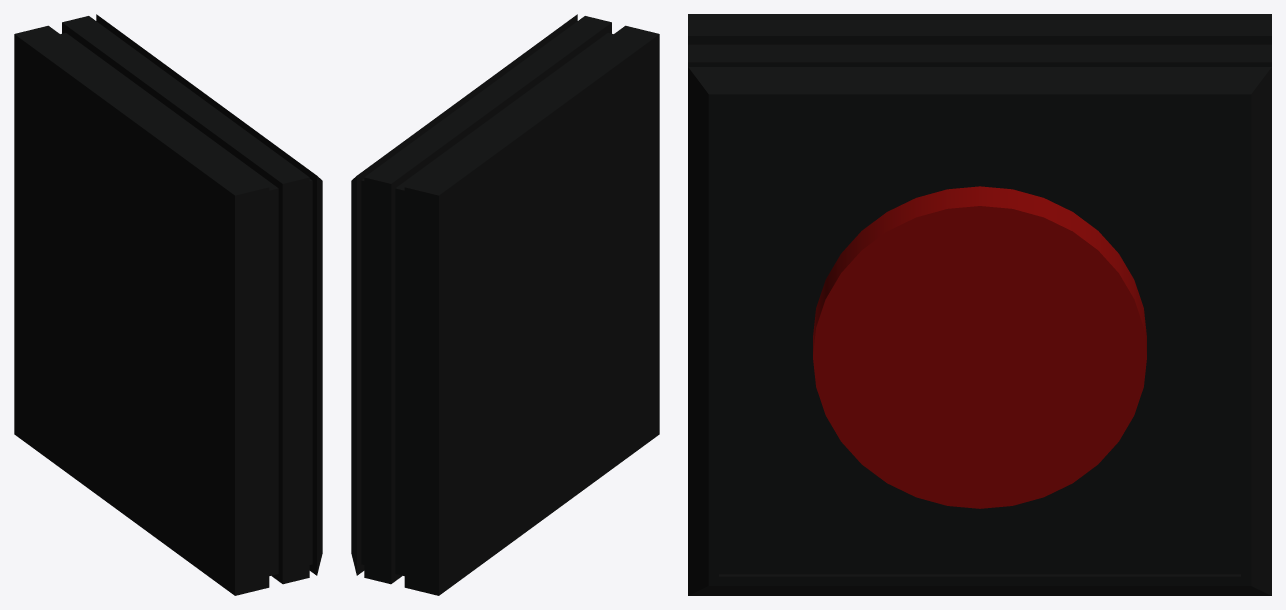
The model's file is buton.fbx.
3 renders of one model, left to right at view 1: azimuth 30°, elevation 25°; view 2: azimuth 150°, elevation 25°; view 3: azimuth 270°, elevation 25°, orthographic. The views are drawn at different scales.
Parts seen in each view (by area): view 1: Cube; view 2: Cube; view 3: Cube, Cylinder.
Part boxes in pixels (x1=…): Cube: x1=14, y1=14, x2=322, y2=595; Cube: x1=351, y1=14, x2=659, y2=595; Cube: x1=688, y1=14, x2=1271, y2=595; Cylinder: x1=813, y1=186, x2=1146, y2=508.
Bounding box in the file's own units: 63.92 × 200 × 200.
